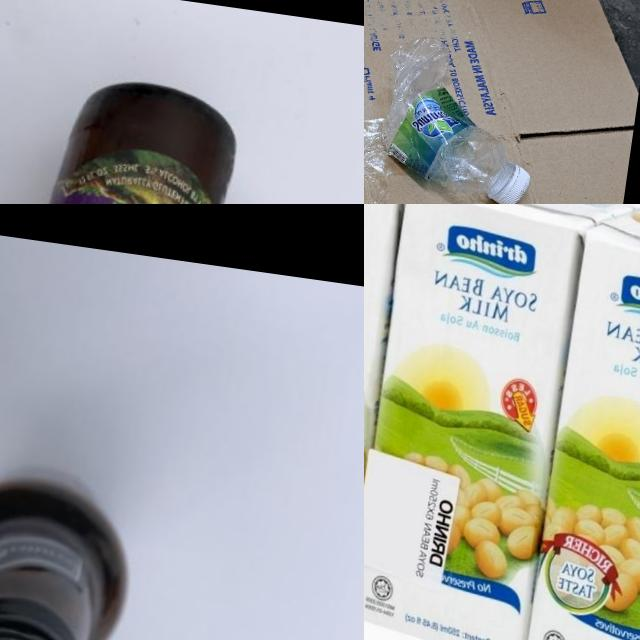caixinha: (364, 204, 640, 640)
garrafa de vidro: (0, 62, 245, 204), (0, 454, 142, 640)
garrafa plástica: (371, 32, 529, 198)
papelão: (364, 0, 640, 204)
tampa plástica: (494, 163, 533, 204)
